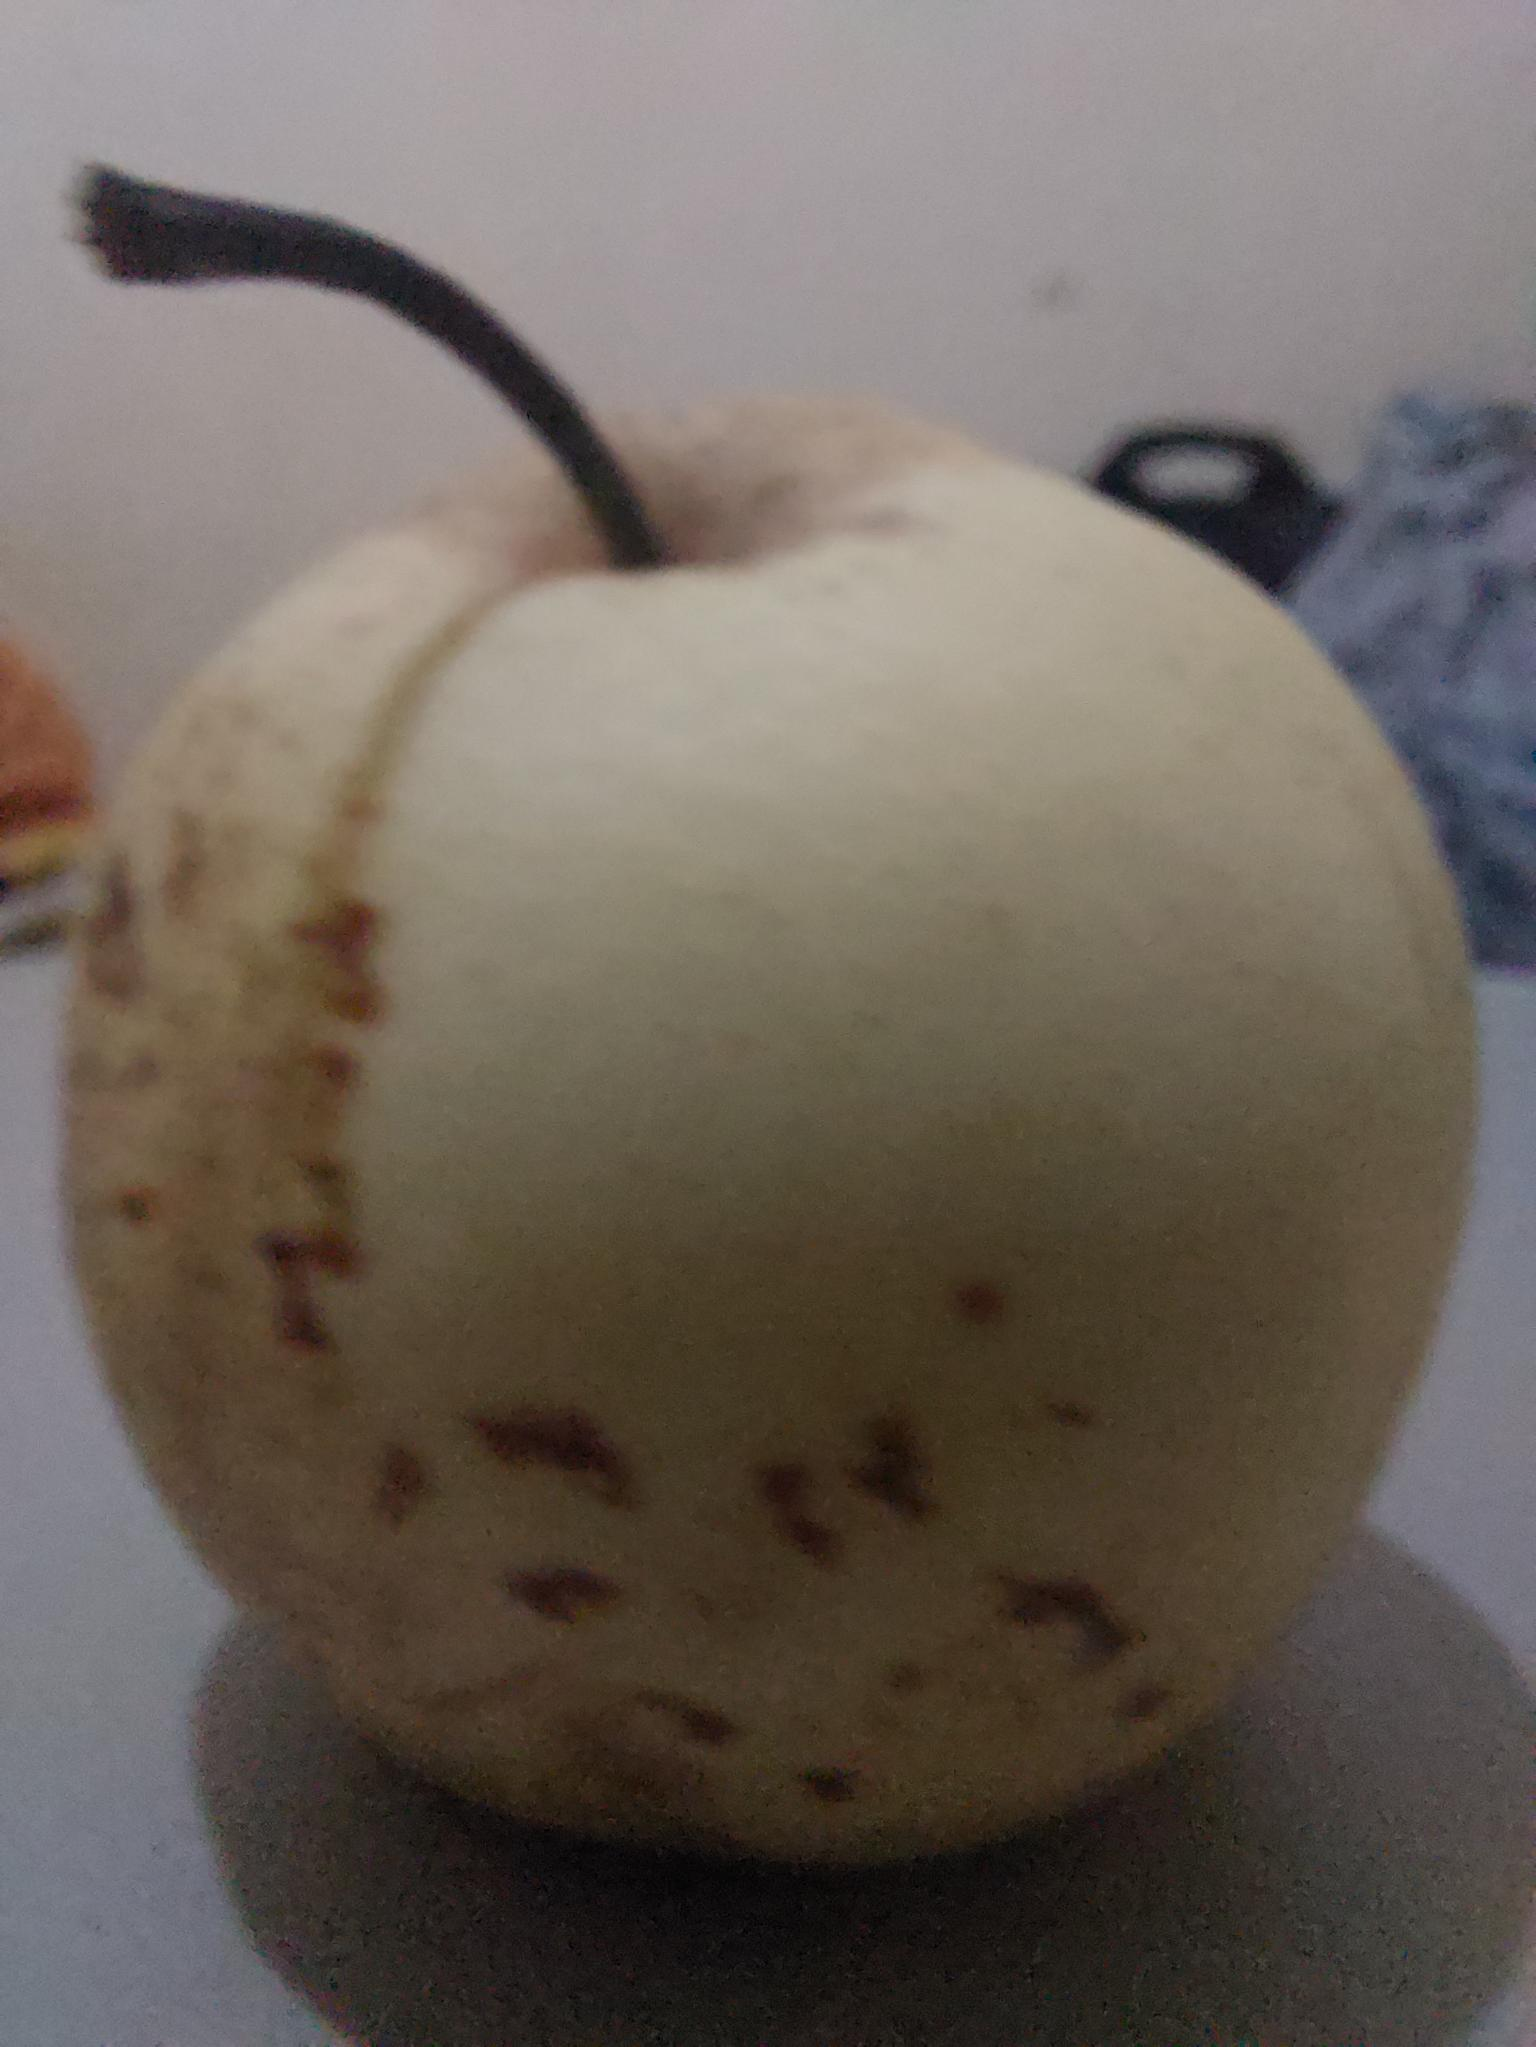Bad Pear: (21, 374, 1496, 1908)
